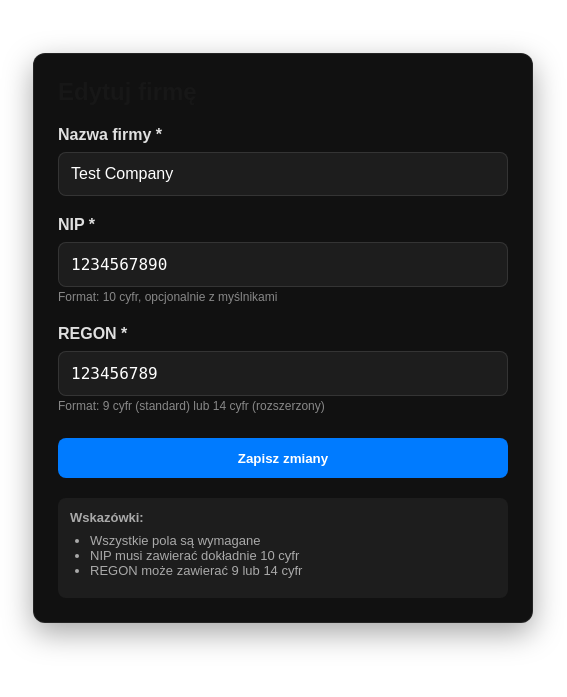
it: EditCompanyForm › Walidacja formularza › powinien pokazać błąd gdy REGON ma nieprawidłowy format
Replace the text in the field labelled "REGON *" with "123" at (283, 374), box [58, 351, 508, 396]
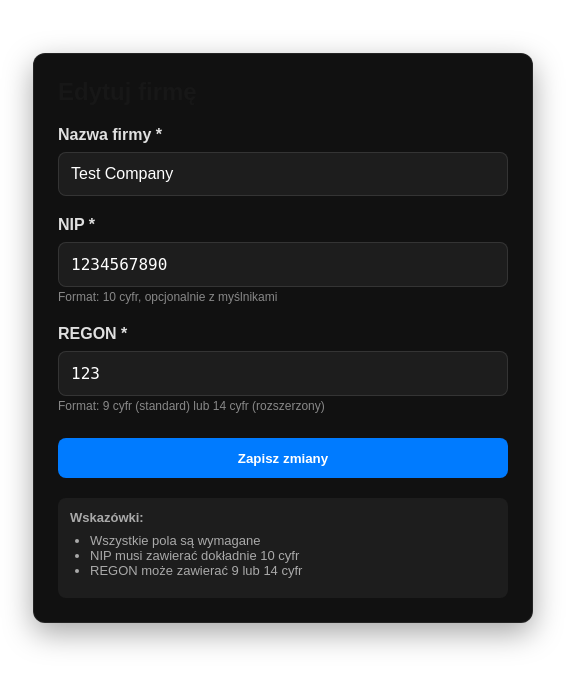
Click the button "Zapisz zmiany" at (283, 458), box [58, 438, 508, 478]
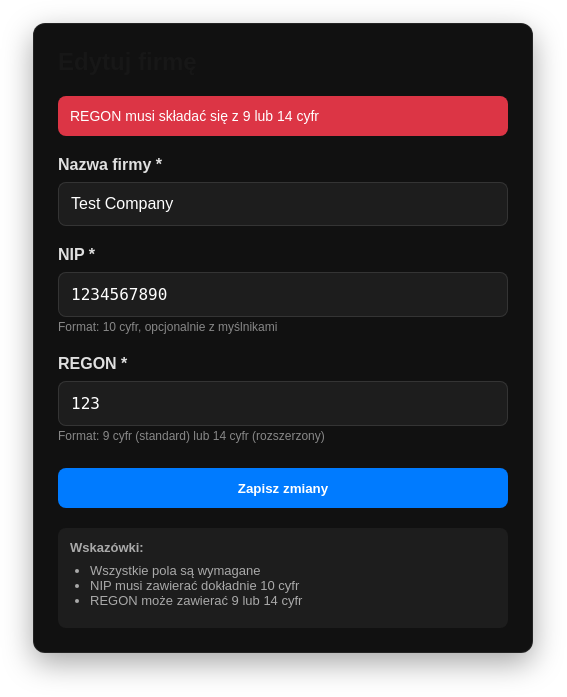
Expected: the text "REGON musi składać się z 9 lub 14 cyfr" is shown, [58, 96, 508, 136]
